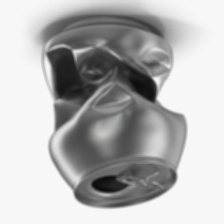can: (35, 13, 189, 211)
